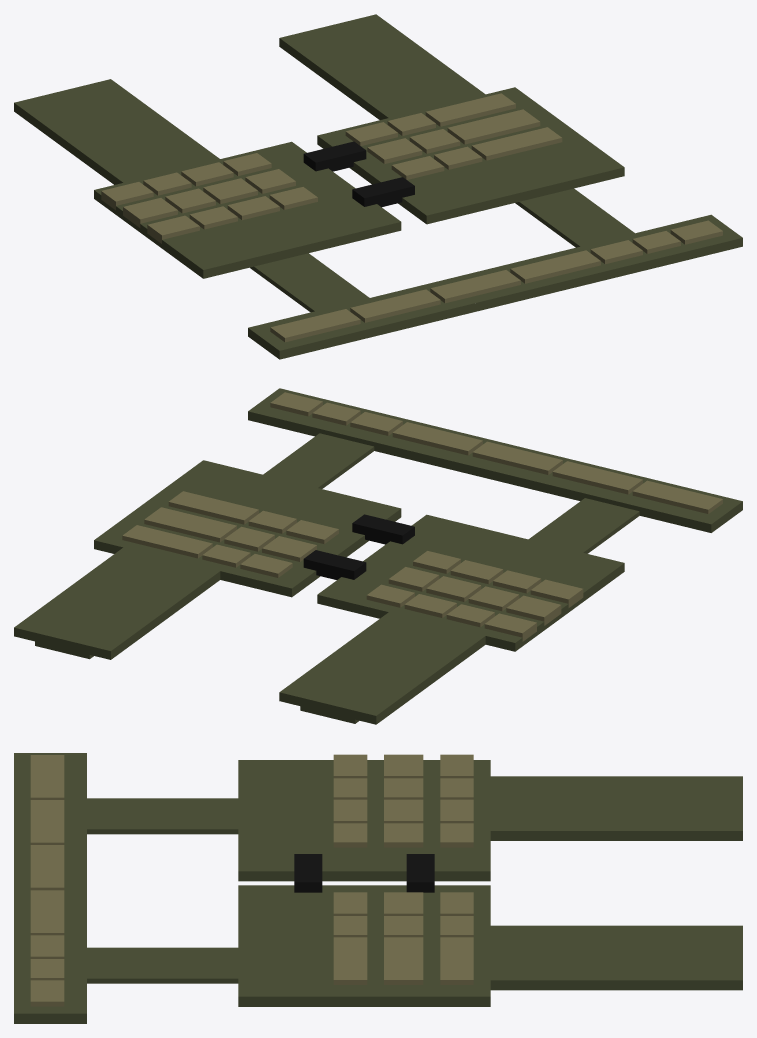
Rendered from light_load_bearing_vest.glb.
3 views of the same model, one above another, from view 1: azimuth 30°, elevation 25°; view 2: azimuth 150°, elevation 25°; view 3: azimuth 270°, elevation 25° (orthographic). The views are drawn at different scales.
Parts seen in each view (by area): view 1: light_load_bearing_vest:compound; view 2: light_load_bearing_vest:compound; view 3: light_load_bearing_vest:compound.
Boxes of the visible parts, x1,y1,x2,y2 form: light_load_bearing_vest:compound: [14, 14, 742, 359]; light_load_bearing_vest:compound: [14, 388, 742, 724]; light_load_bearing_vest:compound: [14, 753, 742, 1023].
Size of the model in its own units: 0.44 by 0.02 by 0.52.
